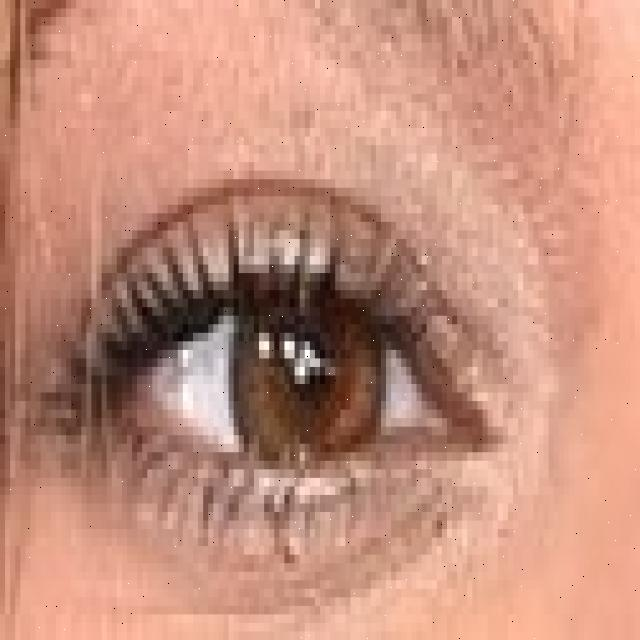Normal: (227, 233, 390, 484)
